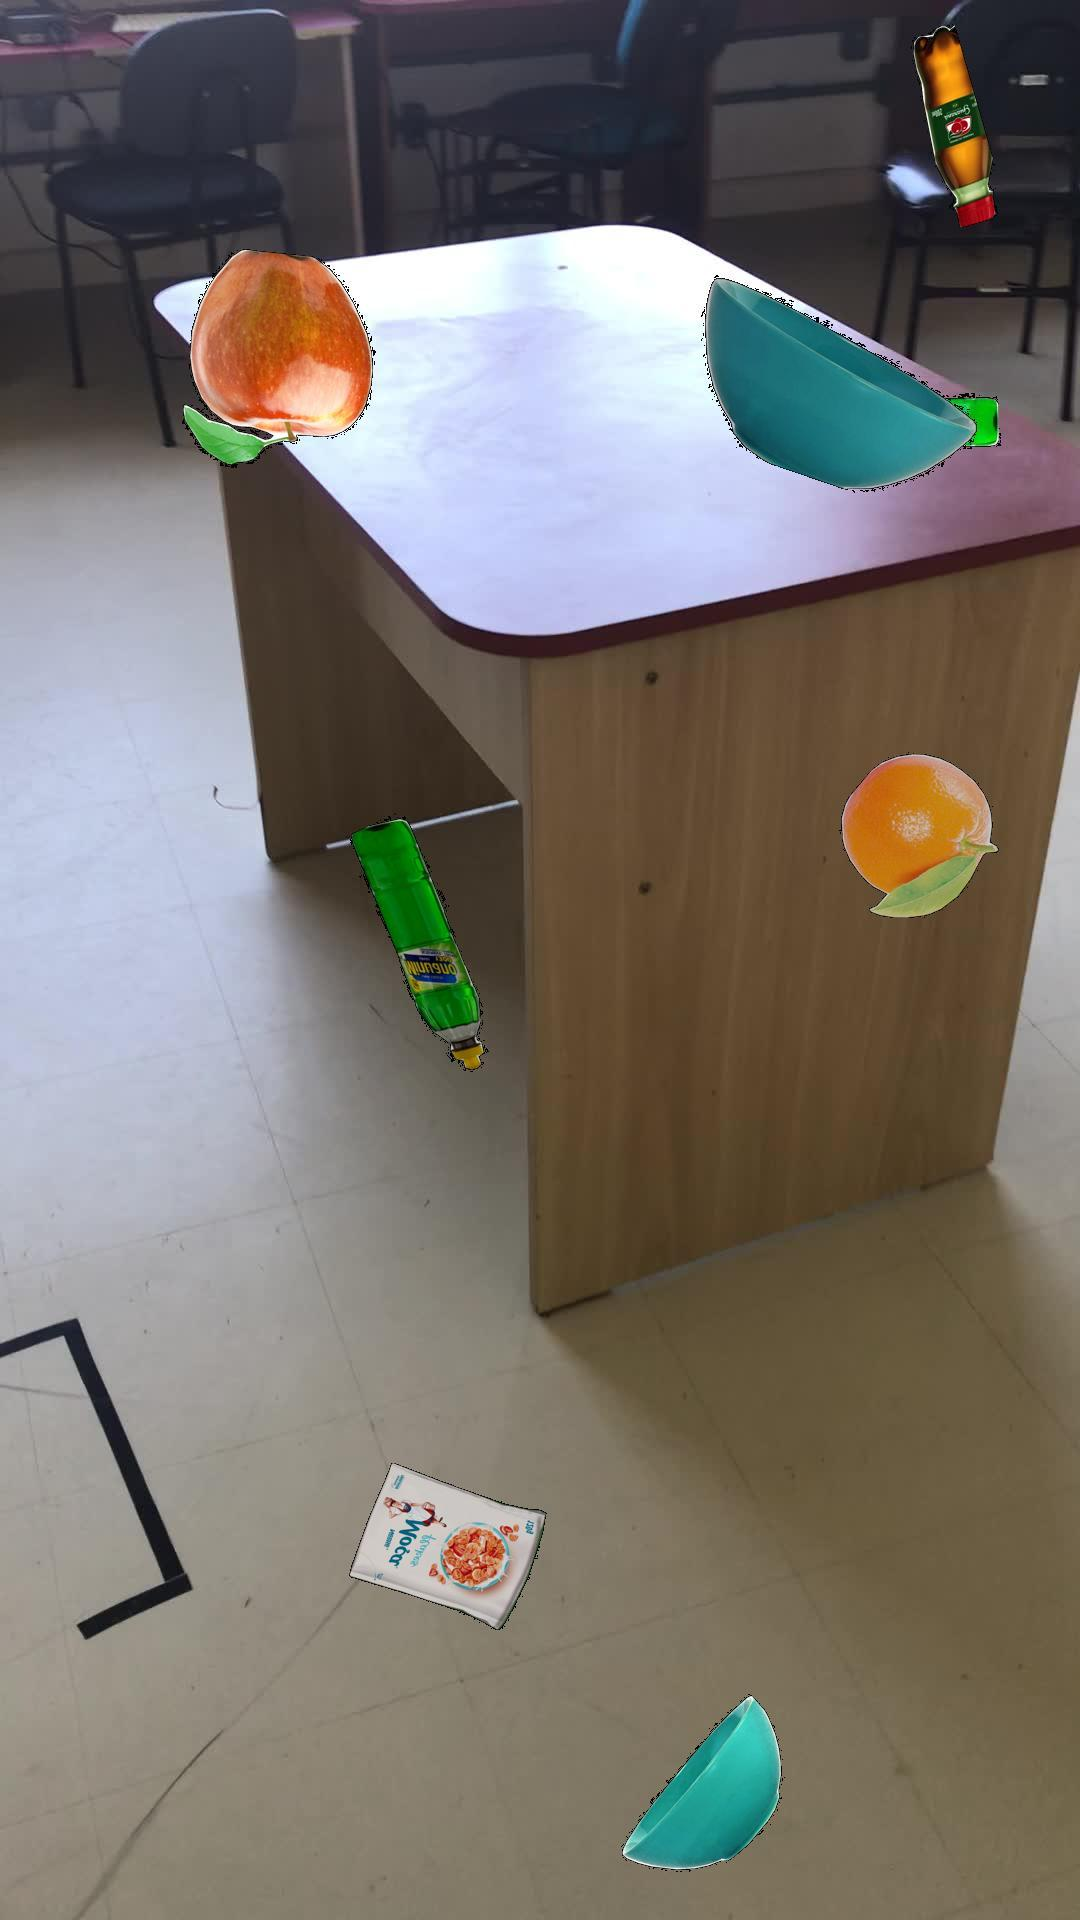apple: (181, 248, 375, 467)
bowl: (704, 277, 976, 491), (621, 1693, 781, 1870)
cleaner: (348, 815, 484, 1069), (948, 392, 1000, 447)
corn flakes: (348, 1461, 546, 1629)
guarana: (911, 24, 996, 227)
orange: (837, 752, 997, 916)
